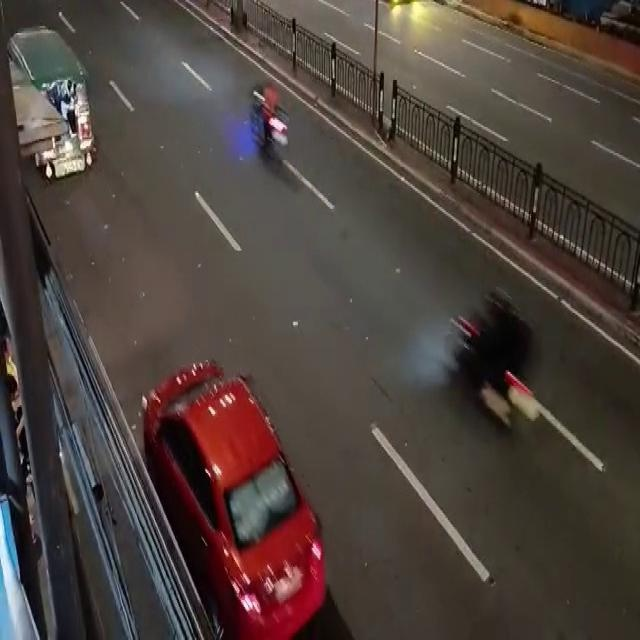car: (140, 357, 336, 640)
jeepney: (6, 15, 107, 190)
